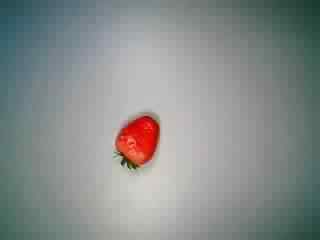strawberry: (103, 108, 171, 172)
